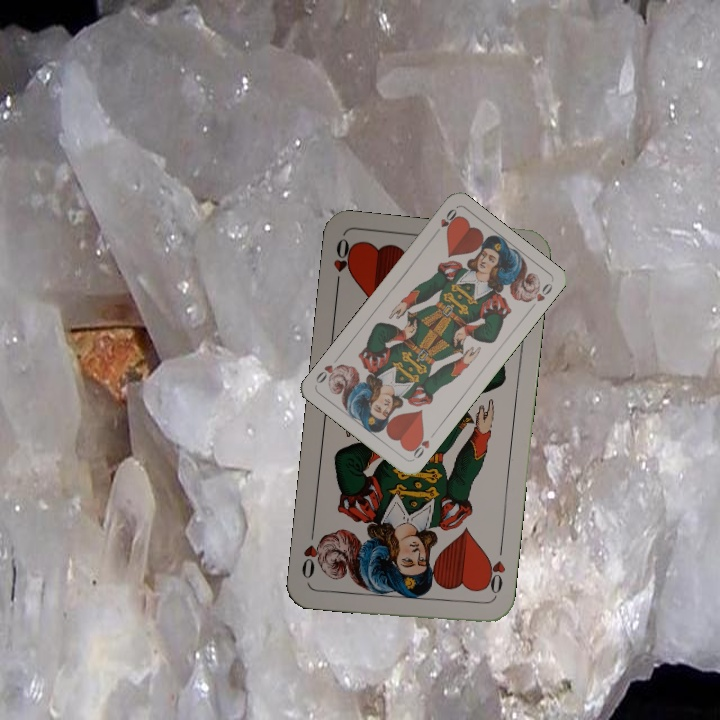HO: (480, 543, 508, 602), (329, 234, 356, 294), (429, 204, 460, 239), (406, 430, 432, 461)
